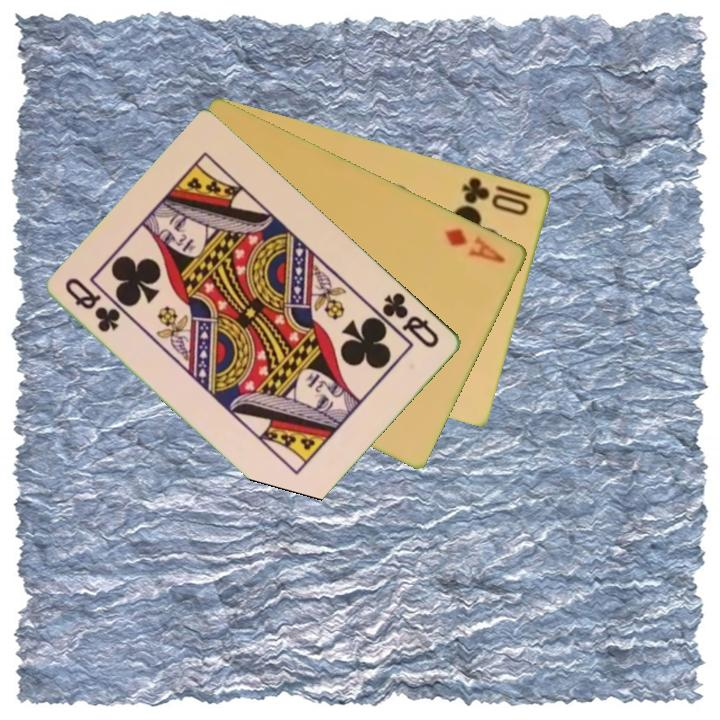10c: (459, 173, 532, 219)
Ad: (441, 224, 510, 266)
Qc: (379, 288, 443, 352), (62, 274, 124, 335)
